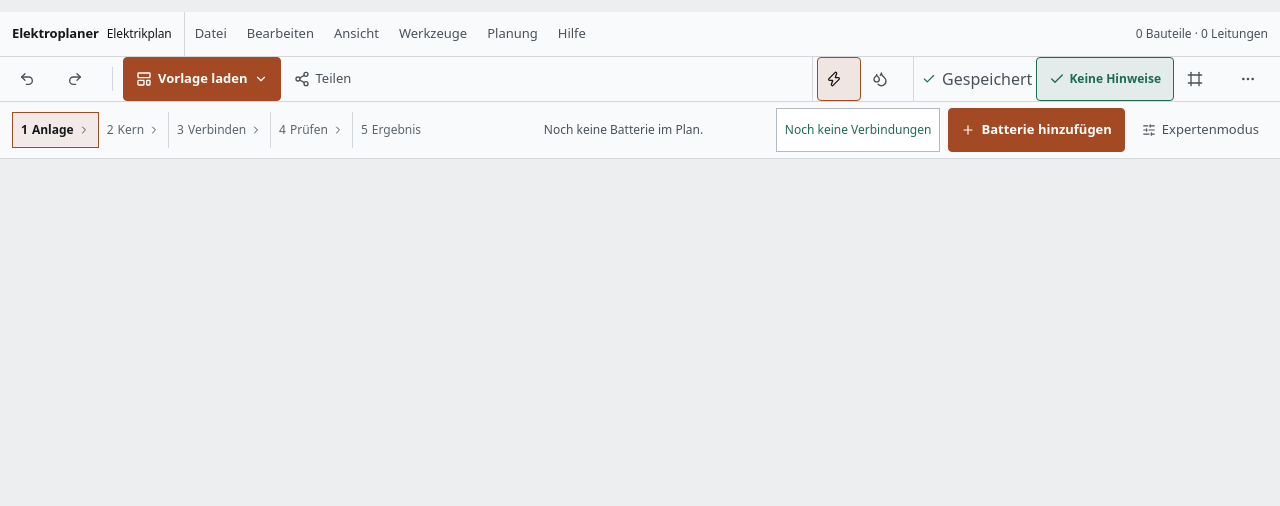
Test case: PlannerDashboard - Core Interactions › supports keyboard navigation and focus restoration in menubar menus
The width and height of the screenshot is (1280, 506).
Click the menu item with test id "menubar-planung". click: x=512, y=34
box: x1=477 y1=12 x2=548 y2=56
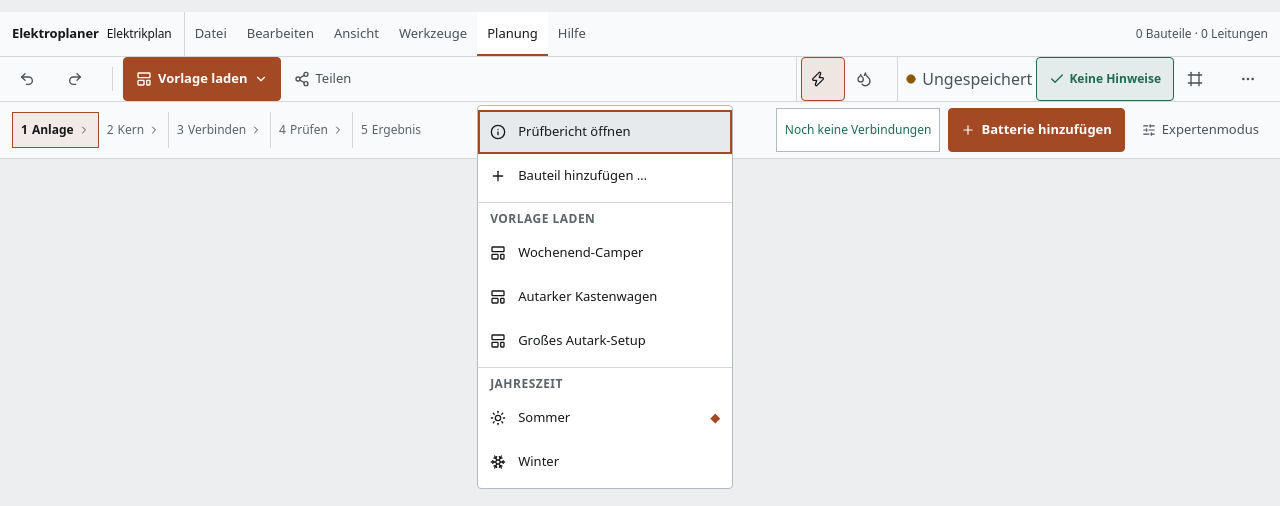
Press ArrowUp in the menu item "Prüfbericht öffnen", box x1=478 y1=110 x2=732 y2=154
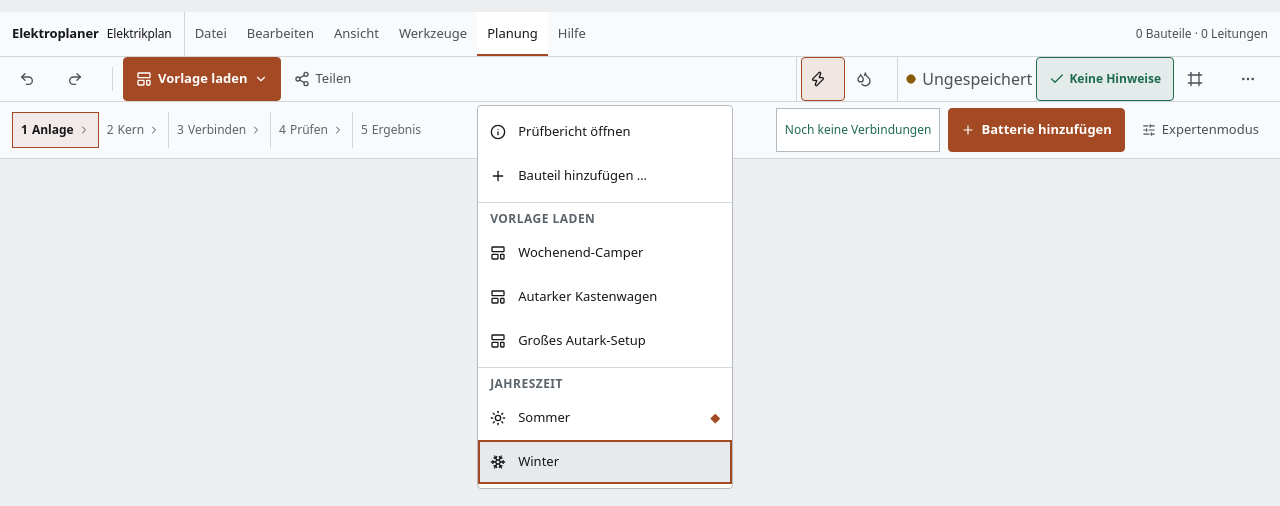
Press Escape in the menu item "Winter", box x1=478 y1=440 x2=732 y2=484
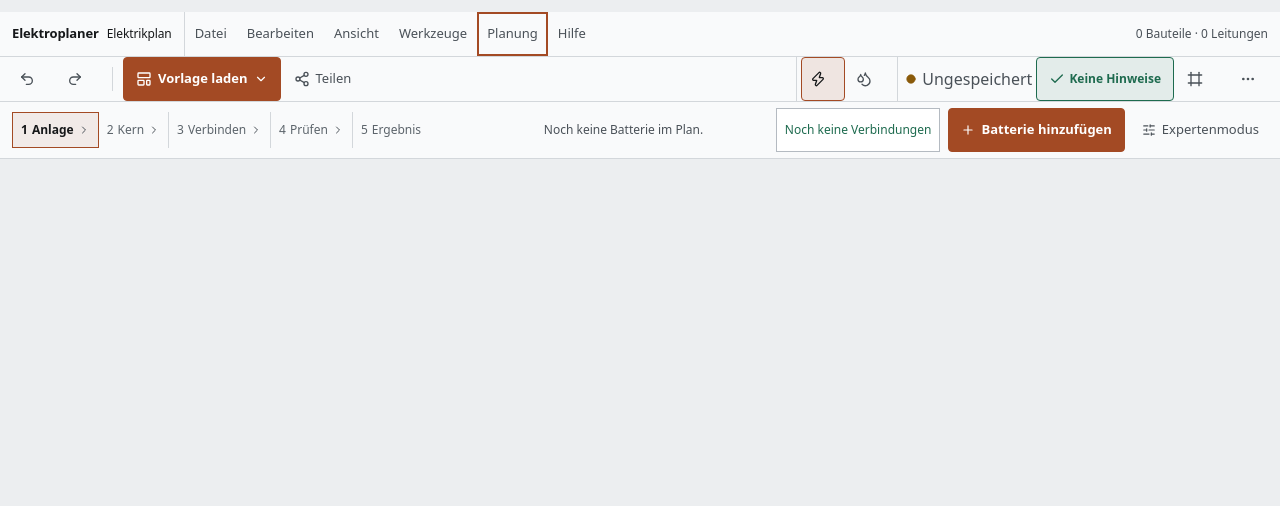
Now the menu "Menü" is gone
